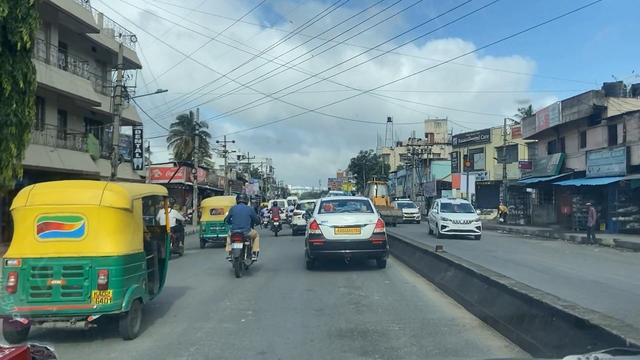LMV: (14, 190, 168, 337), (299, 194, 391, 274), (227, 195, 259, 273)
